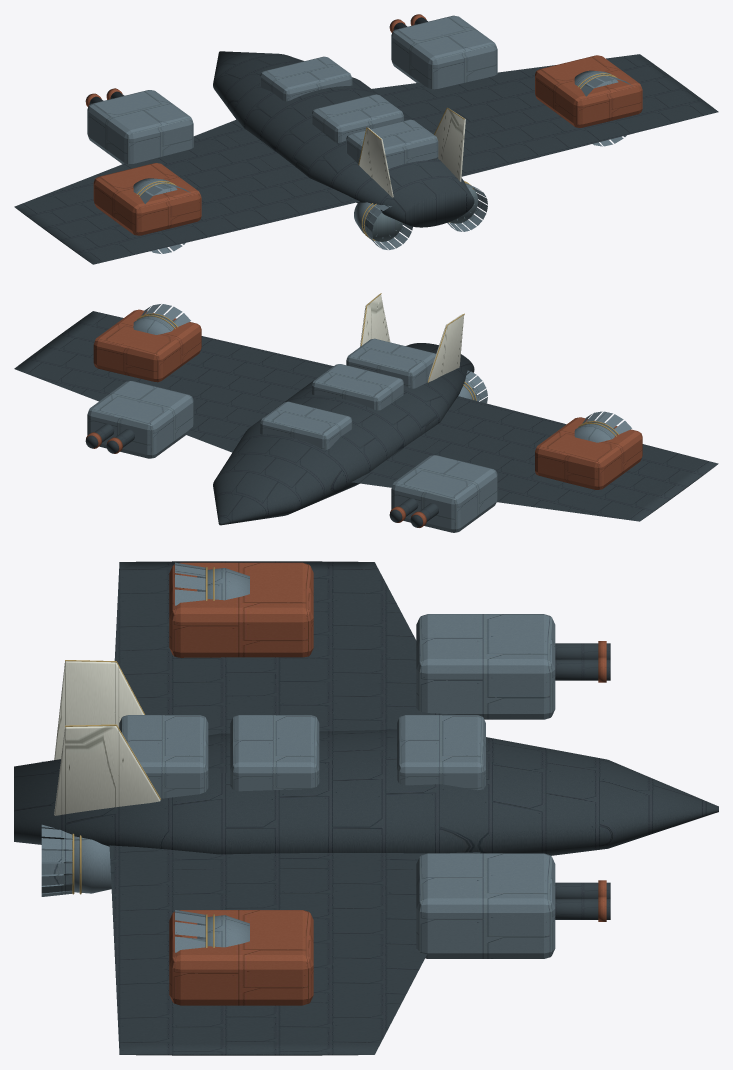
The model's file is boss-high.glb.
The picture shows the model from 3 angles, top to bottom: view 1: azimuth 30°, elevation 25°; view 2: azimuth 150°, elevation 25°; view 3: azimuth 270°, elevation 25°; orthographic projection. The views are drawn at different scales.
Parts seen in each view (by area): view 1: core-graphite-surfaces, core-titanium-surfaces, part_0-titanium-surfaces, part_1-titanium-surfaces, part_2-hostile-surfaces, part_3-hostile-surfaces, core-ceramic-surfaces, part_2-titanium-surfaces, part_3-titanium-surfaces; view 2: core-graphite-surfaces, core-titanium-surfaces, part_0-titanium-surfaces, part_1-titanium-surfaces, part_2-hostile-surfaces, part_3-hostile-surfaces, core-ceramic-surfaces, part_3-titanium-surfaces, part_2-titanium-surfaces, part_0-graphite-surfaces, part_1-graphite-surfaces; view 3: core-graphite-surfaces, core-titanium-surfaces, part_1-titanium-surfaces, part_0-titanium-surfaces, part_3-hostile-surfaces, part_2-hostile-surfaces, core-ceramic-surfaces, part_2-titanium-surfaces, part_3-titanium-surfaces, part_0-graphite-surfaces, part_1-graphite-surfaces, core-brass-surfaces.
Part boxes in pixels (left/top/right/bottom): core-graphite-surfaces: left=14, top=51, right=718, bottom=264; core-titanium-surfaces: left=260, top=56, right=487, bottom=249; part_0-titanium-surfaces: left=87, top=90, right=193, bottom=164; part_1-titanium-surfaces: left=391, top=15, right=497, bottom=89; part_2-hostile-surfaces: left=93, top=163, right=201, bottom=235; part_3-hostile-surfaces: left=535, top=55, right=642, bottom=127; core-ceramic-surfaces: left=359, top=108, right=465, bottom=197; part_2-titanium-surfaces: left=133, top=178, right=190, bottom=253; part_3-titanium-surfaces: left=574, top=70, right=632, bottom=146; core-graphite-surfaces: left=14, top=311, right=718, bottom=525; core-titanium-surfaces: left=260, top=338, right=487, bottom=449; part_0-titanium-surfaces: left=391, top=455, right=497, bottom=532; part_1-titanium-surfaces: left=87, top=381, right=193, bottom=458; part_2-hostile-surfaces: left=535, top=417, right=642, bottom=489; part_3-hostile-surfaces: left=93, top=309, right=201, bottom=382; core-ceramic-surfaces: left=360, top=294, right=464, bottom=381; part_3-titanium-surfaces: left=133, top=304, right=192, bottom=334; part_2-titanium-surfaces: left=574, top=411, right=631, bottom=442; part_0-graphite-surfaces: left=389, top=498, right=438, bottom=527; part_1-graphite-surfaces: left=85, top=424, right=134, bottom=453; core-graphite-surfaces: left=14, top=561, right=718, bottom=1055; core-titanium-surfaces: left=41, top=715, right=485, bottom=896; part_1-titanium-surfaces: left=416, top=853, right=555, bottom=958; part_0-titanium-surfaces: left=416, top=614, right=555, bottom=719; part_3-hostile-surfaces: left=169, top=910, right=313, bottom=1005; part_2-hostile-surfaces: left=169, top=562, right=313, bottom=657; core-ceramic-surfaces: left=54, top=661, right=160, bottom=815; part_2-titanium-surfaces: left=175, top=562, right=249, bottom=605; part_3-titanium-surfaces: left=175, top=910, right=249, bottom=952; part_0-graphite-surfaces: left=555, top=643, right=610, bottom=680; part_1-graphite-surfaces: left=555, top=882, right=610, bottom=919; core-brass-surfaces: left=65, top=660, right=160, bottom=894.
Bounding box in the file's own units: 21 × 3.4 × 12.7.
Materials: 5 (5 with a texture image).
